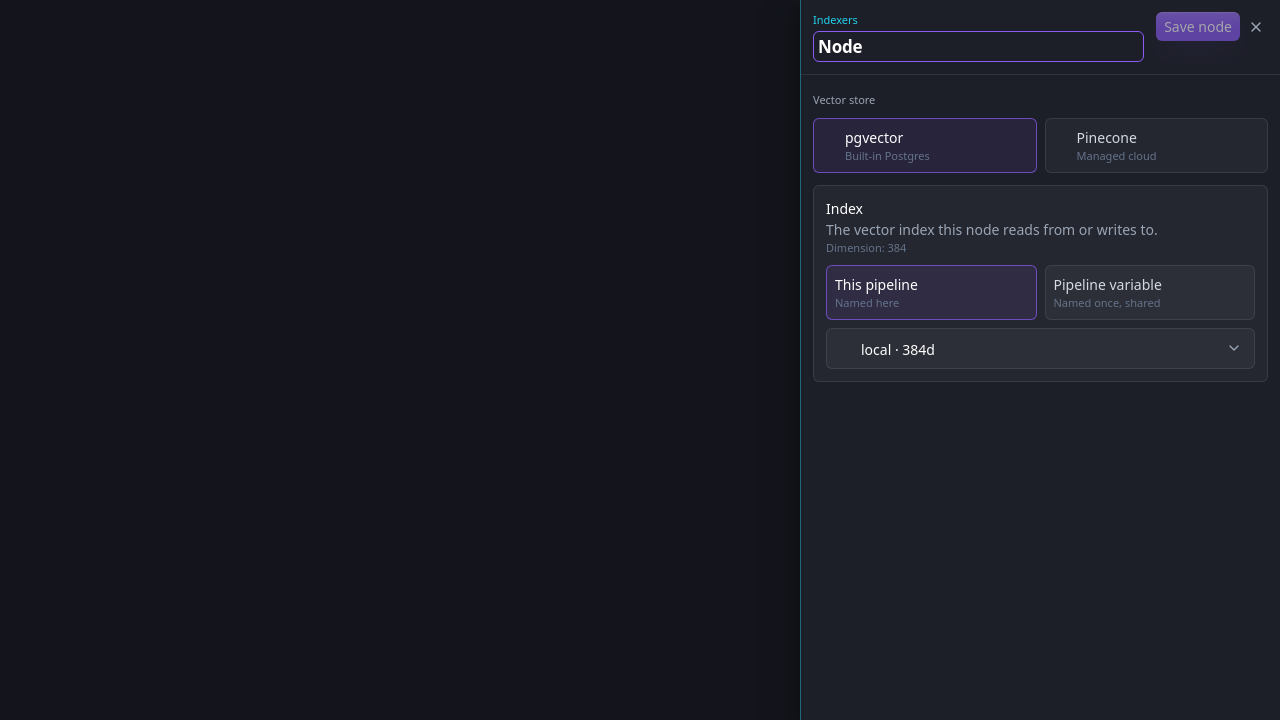
Test case: NodeEditorDrawer › asks for confirmation when an index swap leaves a different index selected
Click the dropdown named "Vector index" at (898, 349), box 826,328 -> 1255,369
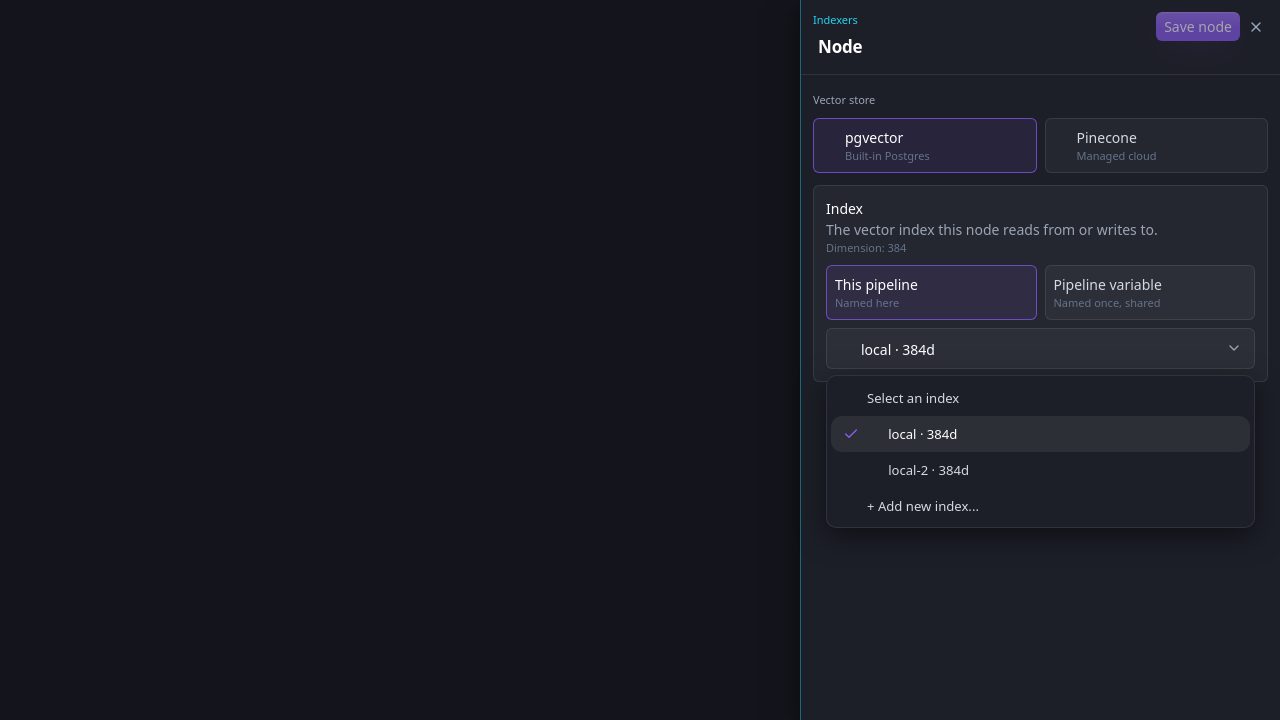
Click the option "local-2 · 384d" at (929, 470), box 888,461 -> 969,479
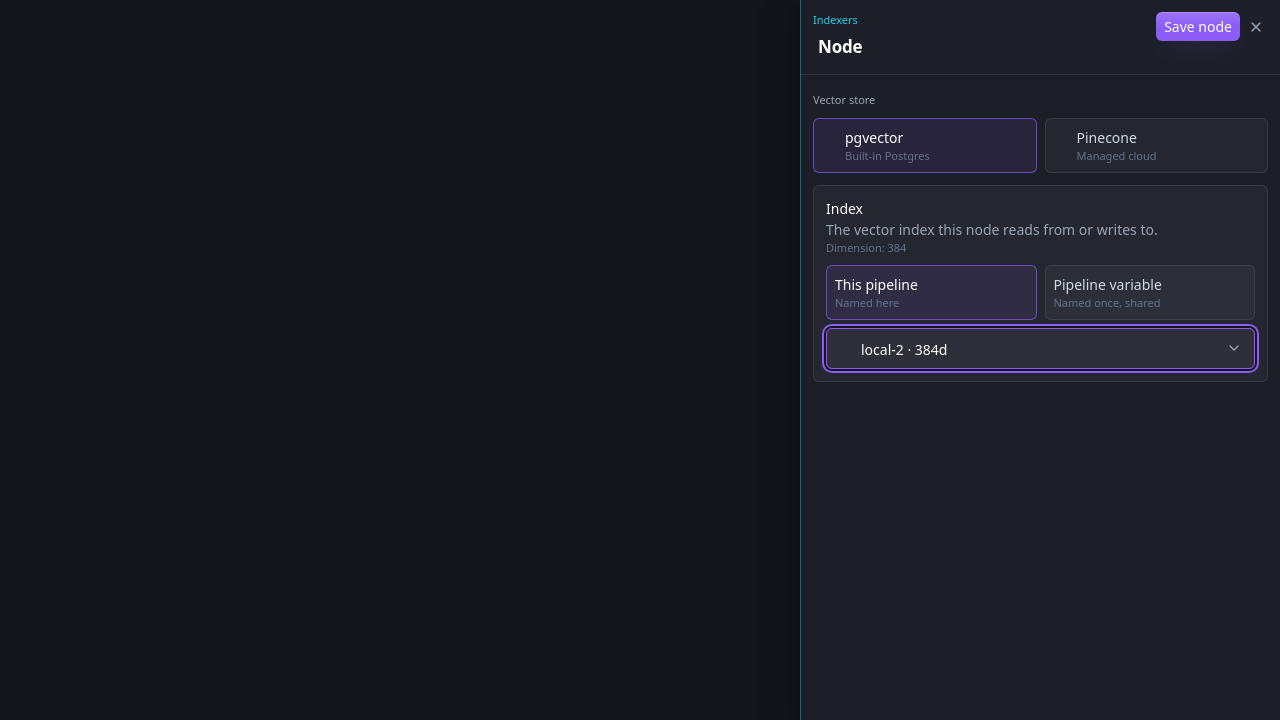
Click the button named "Close node editor" at (1256, 26), box 1244,14 -> 1268,38
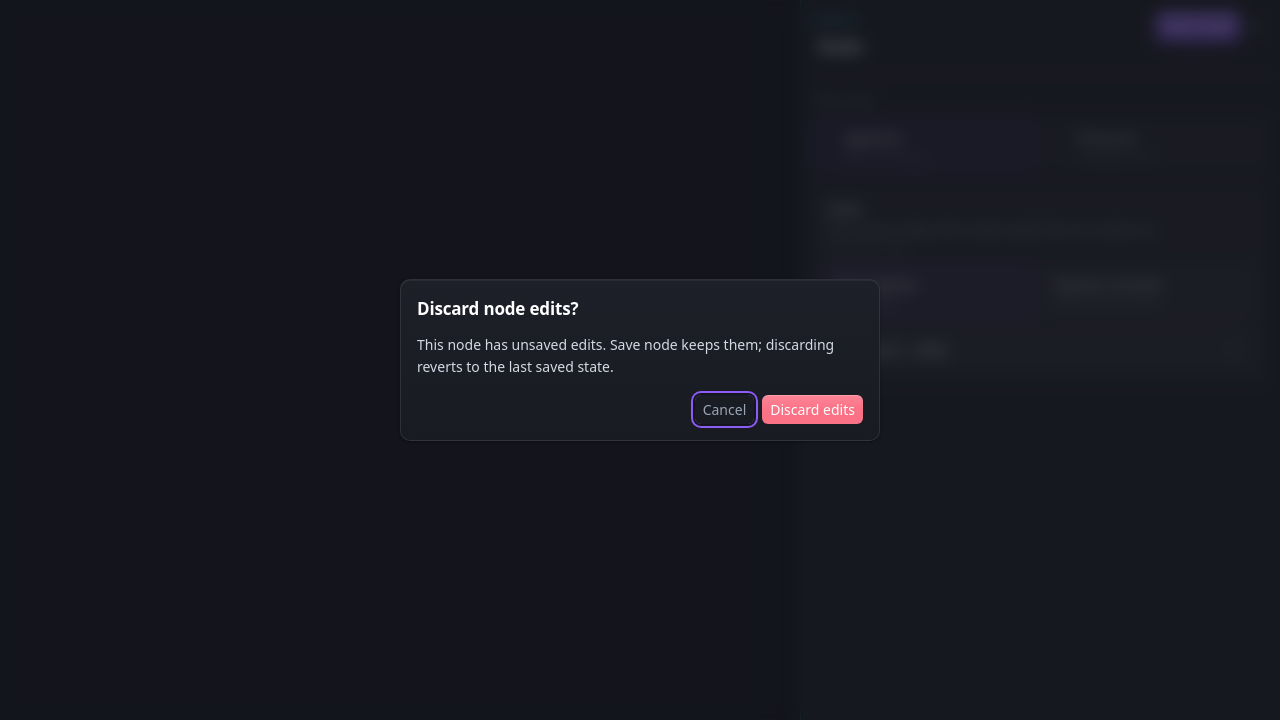
Expected: the heading "Discard node edits?" is shown, 417,297 -> 578,320
